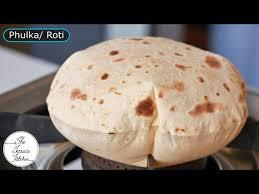roti phulka: (49, 31, 243, 171)
